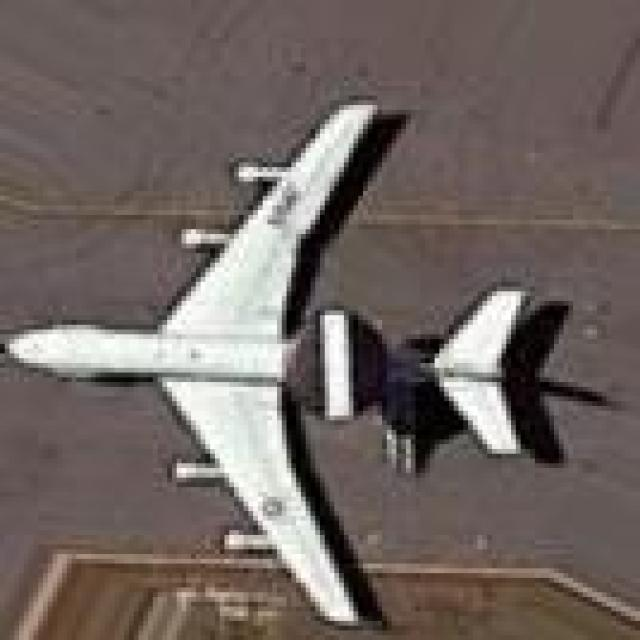E-3_TopDown: (0, 91, 607, 630)
